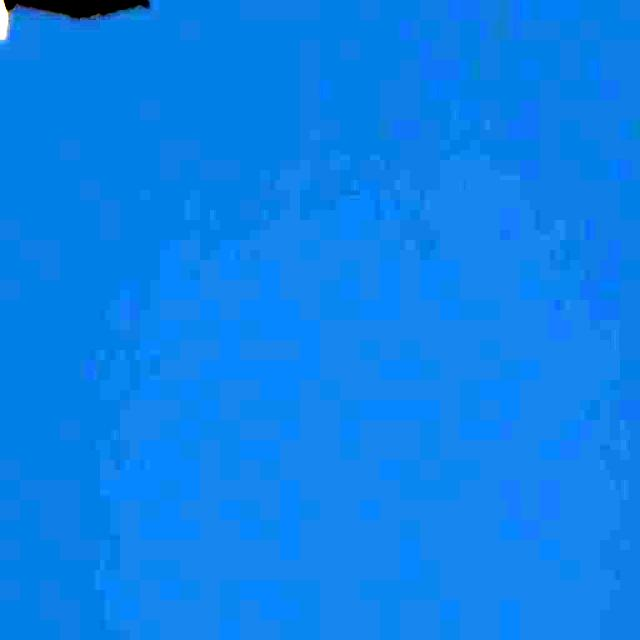airplane: (0, 0, 166, 52)
